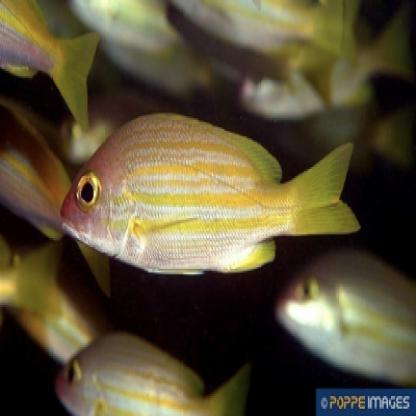Lutjanidae -Snappers-: (60, 96, 370, 286)
